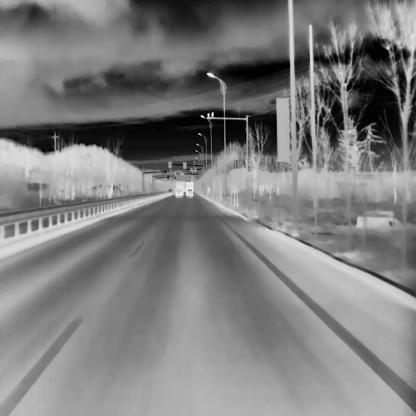car: (186, 181, 193, 194), (176, 182, 183, 195), (175, 188, 182, 196), (186, 188, 193, 196)
